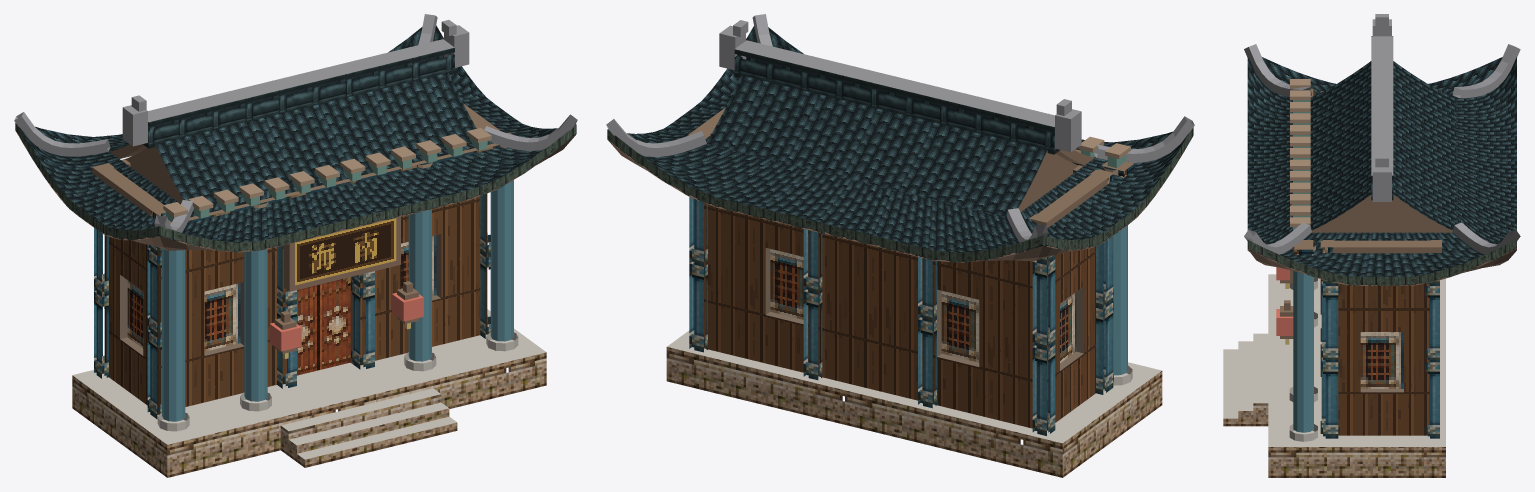
File: g_haenam_wood_o.glb
The picture shows the model from 3 angles, left to right: view 1: azimuth 30°, elevation 25°; view 2: azimuth 150°, elevation 25°; view 3: azimuth 270°, elevation 25°; orthographic projection. The views are drawn at different scales.
Parts seen in each view (by area): view 1: roof, plaster, stonetop, stone, col, ridgeend, post, ridge, wood, eave, door, plaque (+7 smaller); view 2: roof, plaster, stone, post, ridgeend, ridge, eave, win, stonetop, wood, col, reveal (+2 smaller); view 3: roof, plaster, stonetop, ridgeend, stone, wood, post, col, woodl, eave, win, under (+2 smaller).
Boxes of the visible parts, box(x1,y1,x2,y2) form: roof: box(19, 25, 575, 242); plaster: box(104, 193, 487, 407); stonetop: box(72, 309, 545, 459); stone: box(72, 352, 546, 477); col: box(162, 180, 513, 421); ridgeend: box(14, 14, 577, 239); post: box(94, 194, 490, 418); ridge: box(143, 47, 454, 148); wood: box(92, 103, 512, 353); eave: box(15, 123, 576, 252); door: box(297, 277, 350, 375); plaque: box(295, 218, 396, 285); roof: box(608, 26, 1188, 252); plaster: box(704, 203, 1095, 428); stone: box(666, 347, 1162, 477); post: box(689, 197, 1113, 435); ridgeend: box(606, 14, 1194, 249); ridge: box(734, 49, 1059, 154); eave: box(607, 127, 1193, 262); win: box(770, 249, 1076, 362); stonetop: box(667, 330, 1161, 443); wood: box(687, 107, 1134, 228); col: box(1113, 225, 1127, 375); reveal: box(765, 248, 1084, 370); roof: box(1247, 57, 1516, 276); plaster: box(1338, 283, 1429, 435); stonetop: box(1223, 274, 1445, 446); ridgeend: box(1244, 14, 1520, 254); stone: box(1223, 403, 1445, 477); wood: box(1280, 88, 1452, 338); post: box(1320, 279, 1439, 438); col: box(1293, 271, 1313, 432); woodl: box(1290, 79, 1315, 251); eave: box(1247, 240, 1516, 285); win: box(1360, 332, 1403, 388); under: box(1247, 248, 1516, 285).
Bounding box in the file's own units: 66.93 × 49.28 × 43.61.
Materials: 20 (10 with a texture image).
